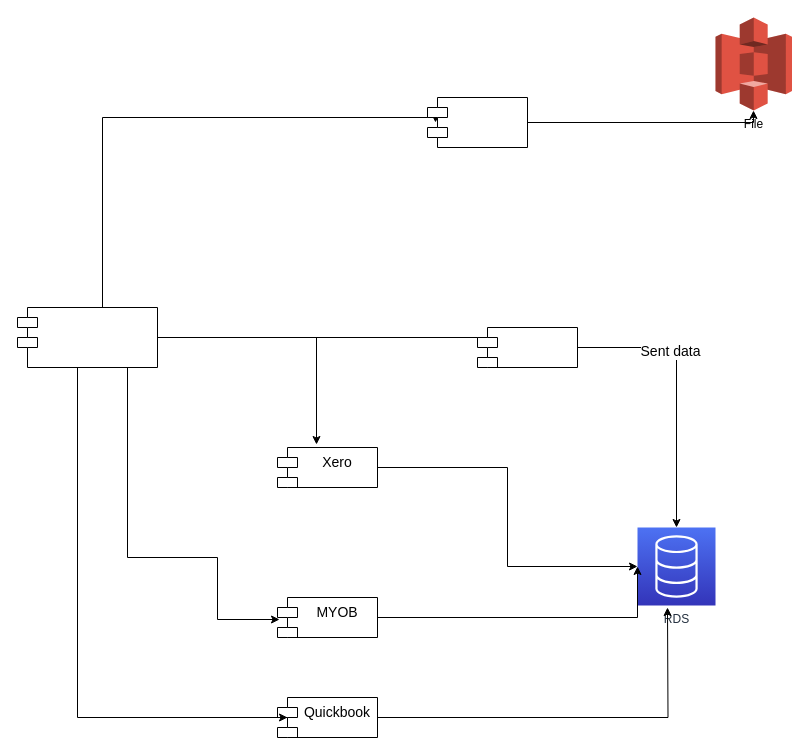
This 810x755 diagram has some shape labels left out. The centre of each missing label's shape, as x and y in pixels:
"API Data" goes at point (87, 337).
"Import Data" goes at point (477, 122).
"Insert Data" goes at point (527, 347).
